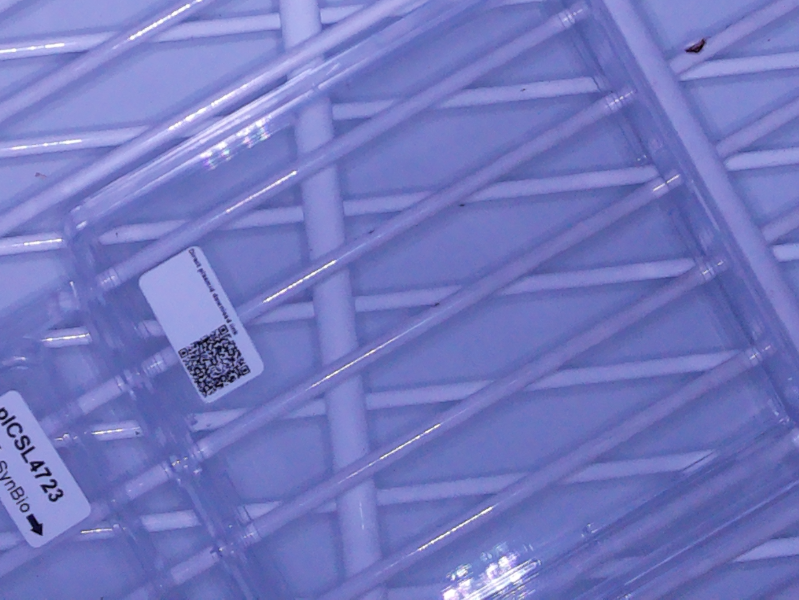plate: (59, 1, 799, 600), (1, 337, 185, 600)
